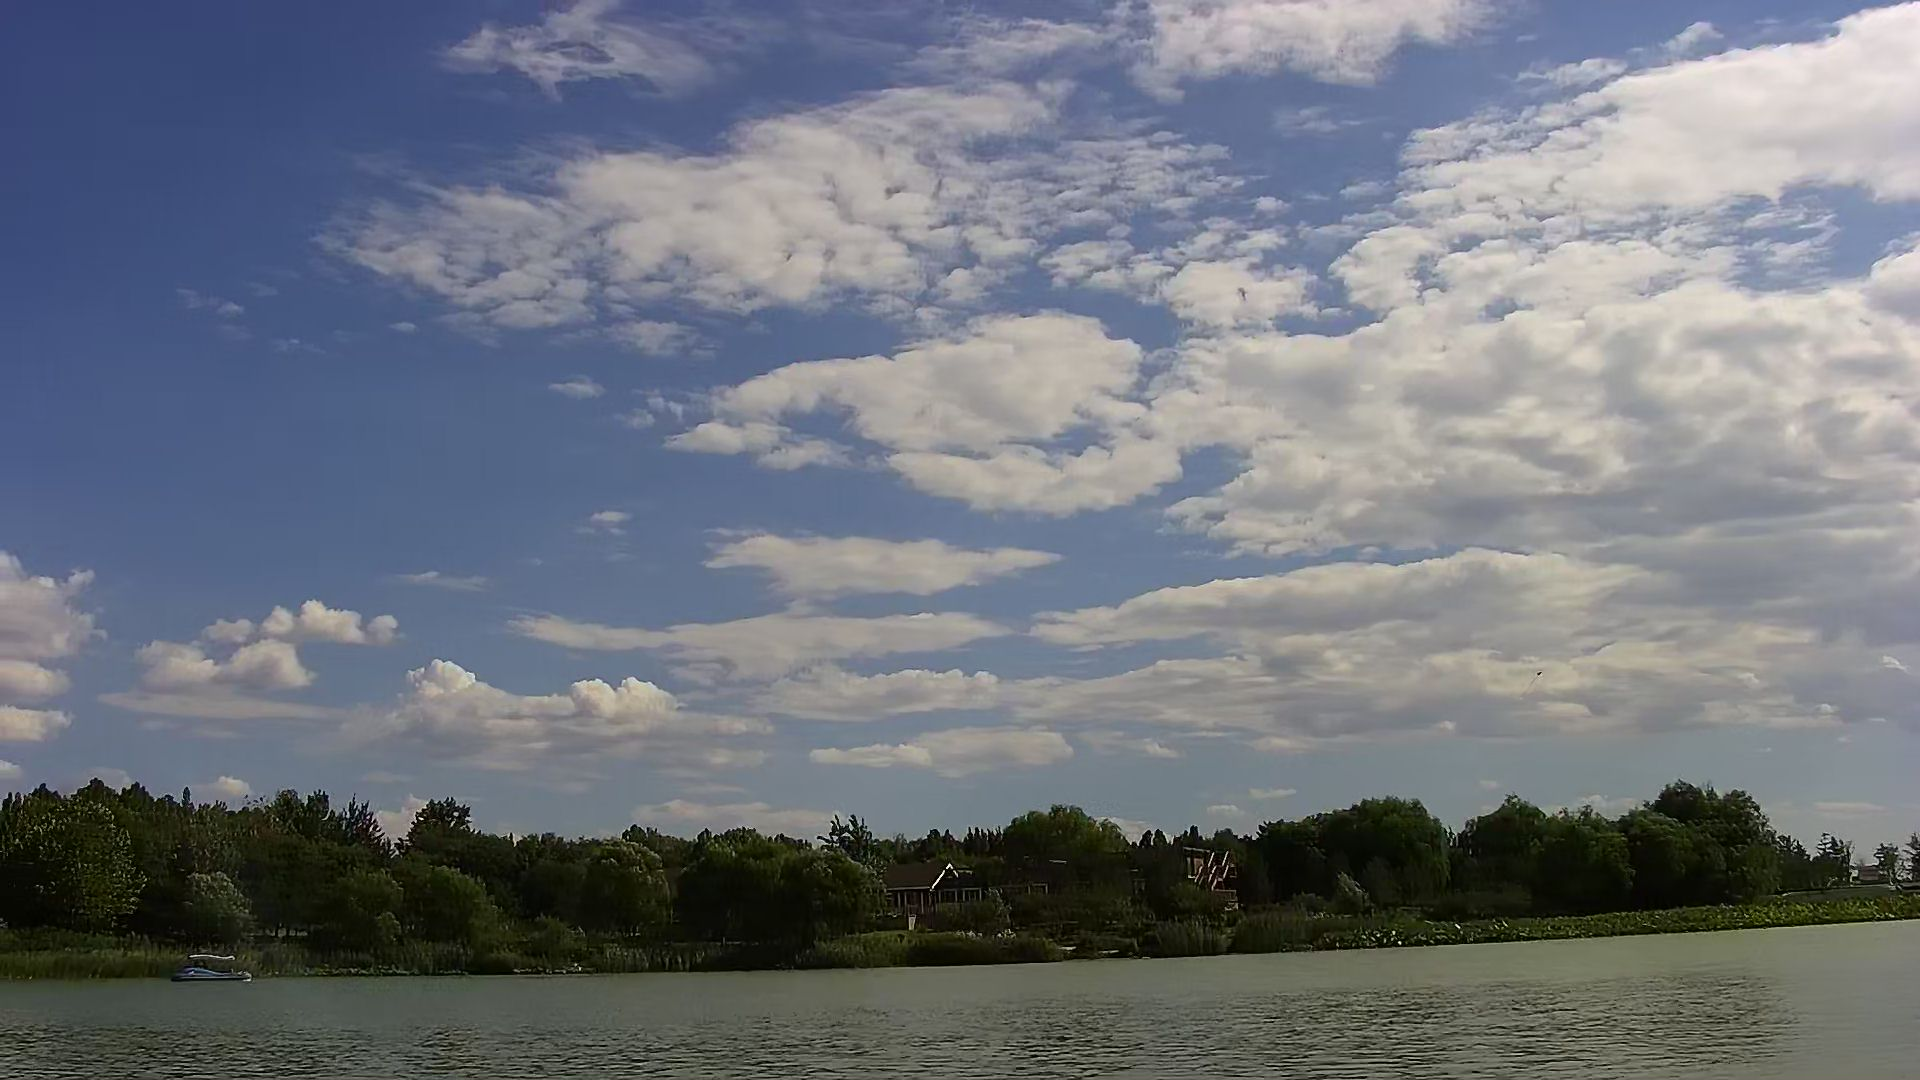boat: (173, 944, 257, 992)
